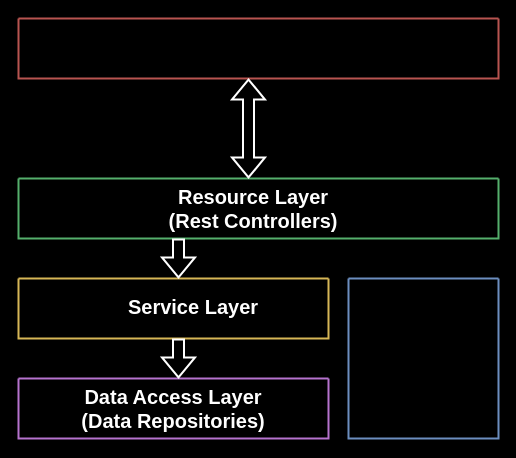
Image size: 516x458. Some labels were removed from this diagram. Here are the shapes that lost their labels. From the top down, the centre of each, then its label:
At (258,48): "Application".
At (423,358): "Model".
